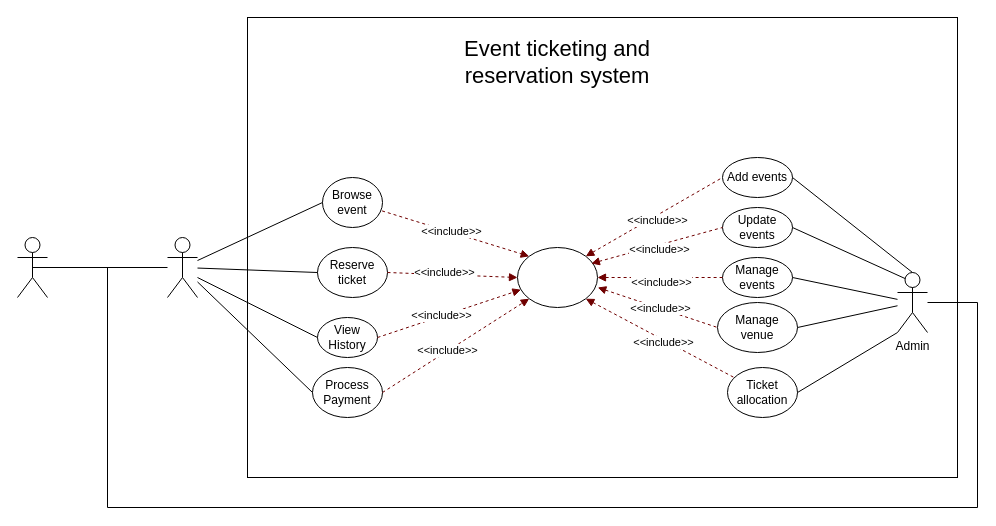
Image size: 996x526. Some labels were removed from this diagram. Each missing label, with the box of its shape:
Attendee: (166, 236, 198, 298)
Log into the system: (516, 246, 598, 308)
User: (16, 236, 48, 298)
